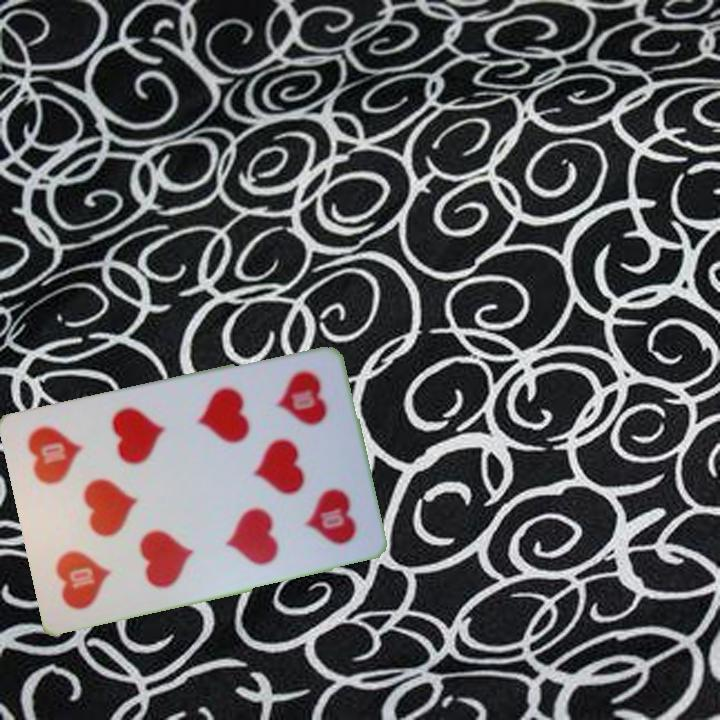h_10.png: (246, 359, 350, 474), (36, 502, 140, 617)
